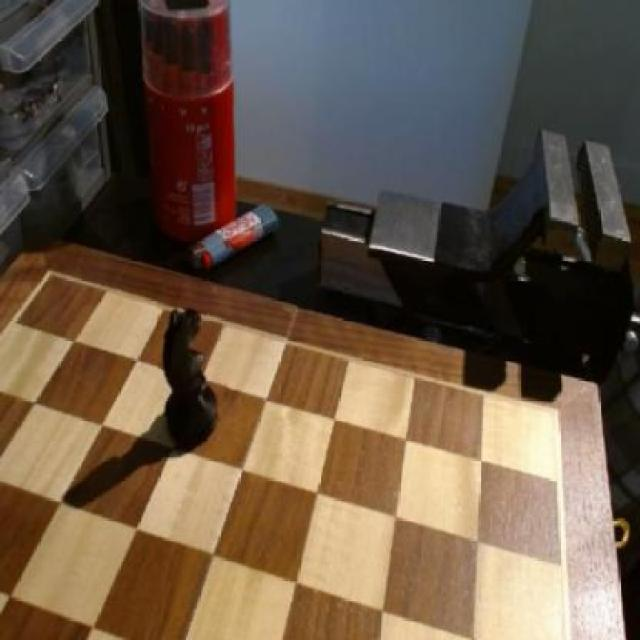black-king: (158, 300, 228, 454)
